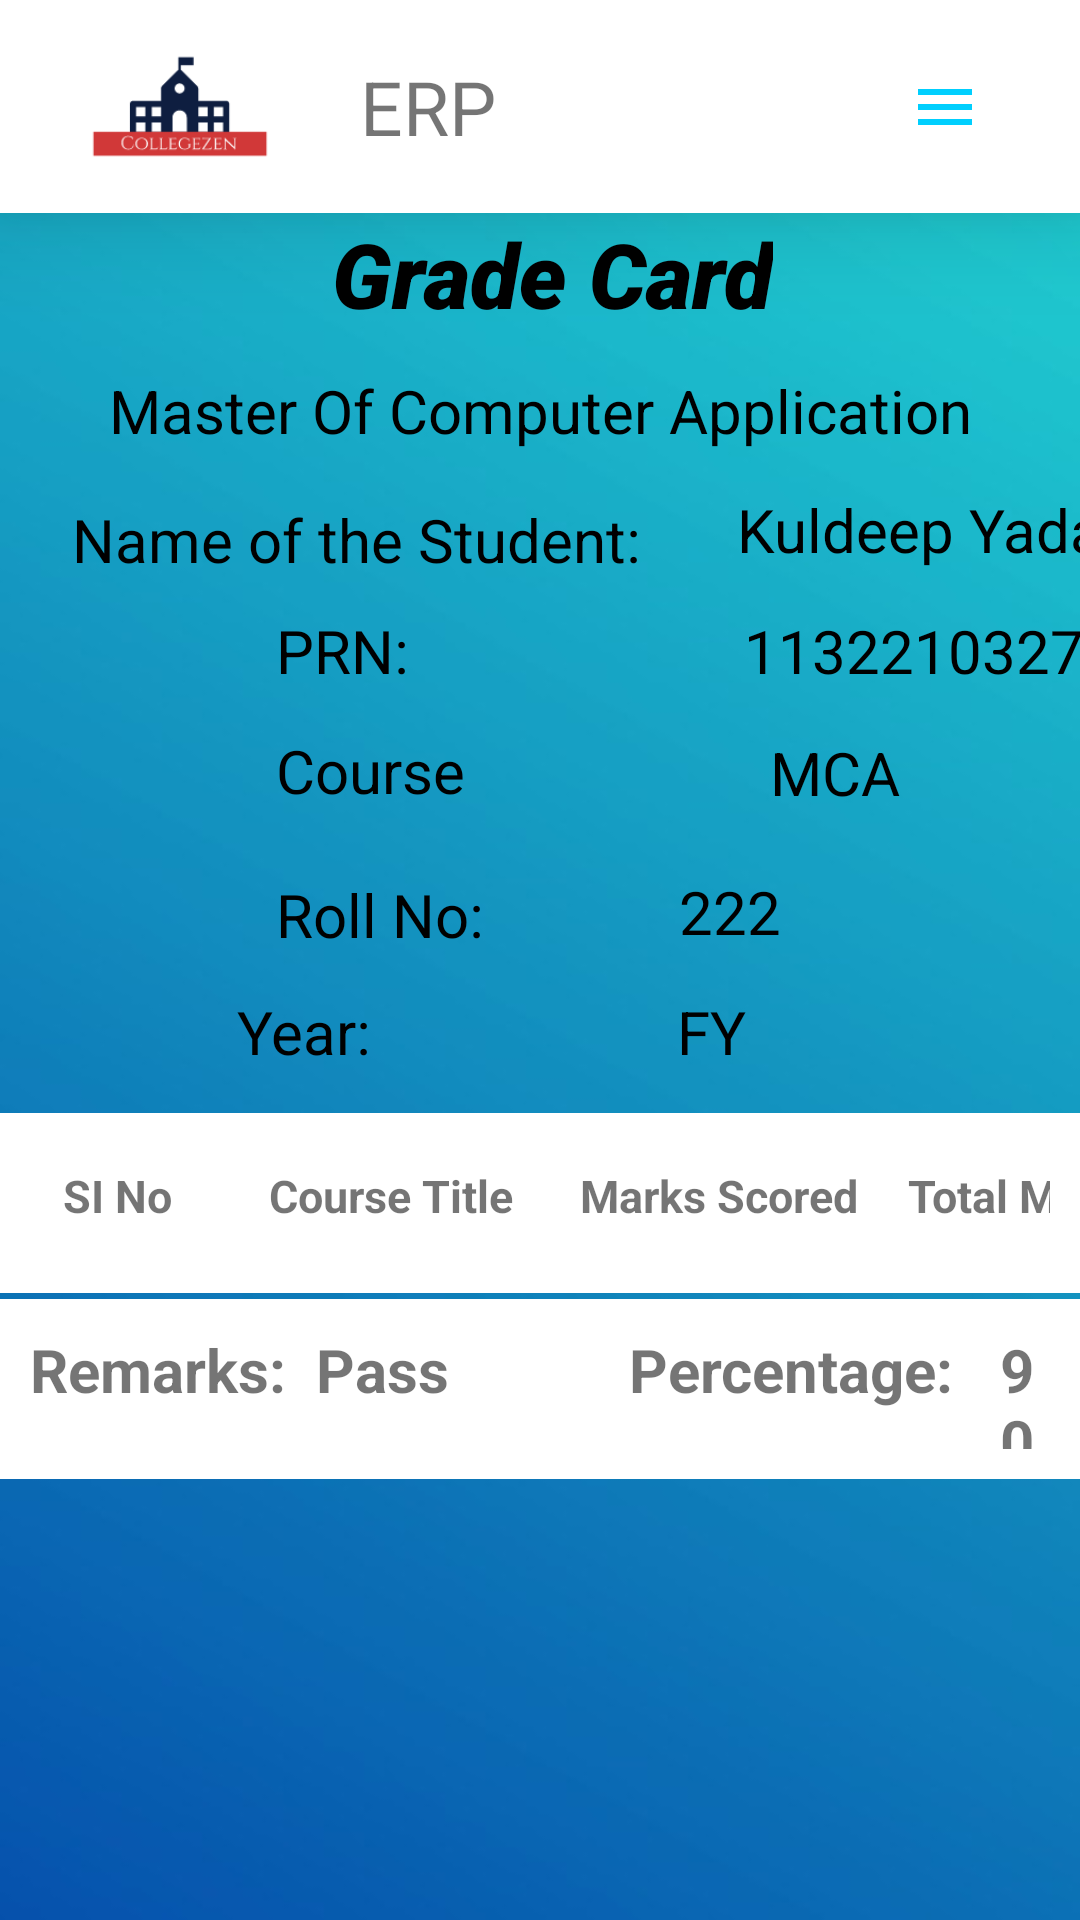

Icons on this 1080×1920 Android screen, each with its box as box(x1, y1, x2, y2):
menu: box(918, 89, 972, 125)
